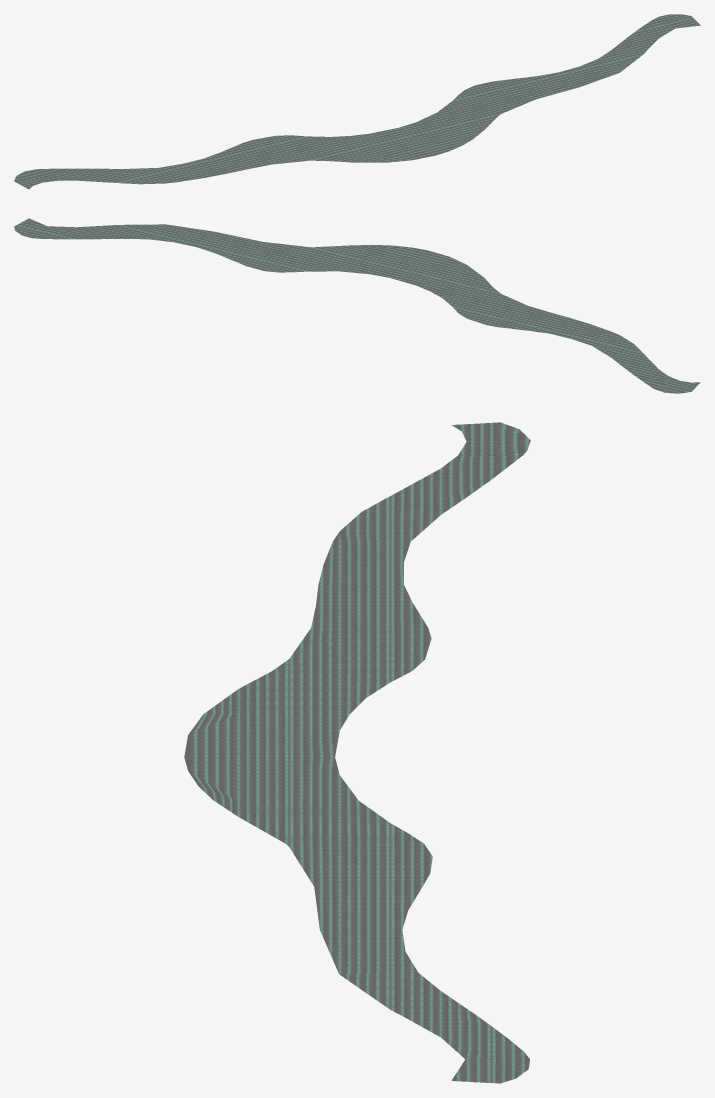
File: pref_sm_beach_winter_techstadium06_bottom_floor_lv3.fbx
The picture shows the model from 3 angles, top to bottom: view 1: azimuth 30°, elevation 25°; view 2: azimuth 150°, elevation 25°; view 3: azimuth 270°, elevation 25°; orthographic projection. The views are drawn at different scales.
Visible parts, largest first — view 1: pref_sm_beach_winter_techstadium06_bottom_floor_lv3; view 2: pref_sm_beach_winter_techstadium06_bottom_floor_lv3; view 3: pref_sm_beach_winter_techstadium06_bottom_floor_lv3.
Boxes of the visible parts, x1,y1,x2,y2 form: pref_sm_beach_winter_techstadium06_bottom_floor_lv3: [14, 14, 700, 189]; pref_sm_beach_winter_techstadium06_bottom_floor_lv3: [14, 218, 700, 393]; pref_sm_beach_winter_techstadium06_bottom_floor_lv3: [184, 422, 530, 1083].
Bounding box in the file's own units: 124 × 1.55e-06 × 27.52.
